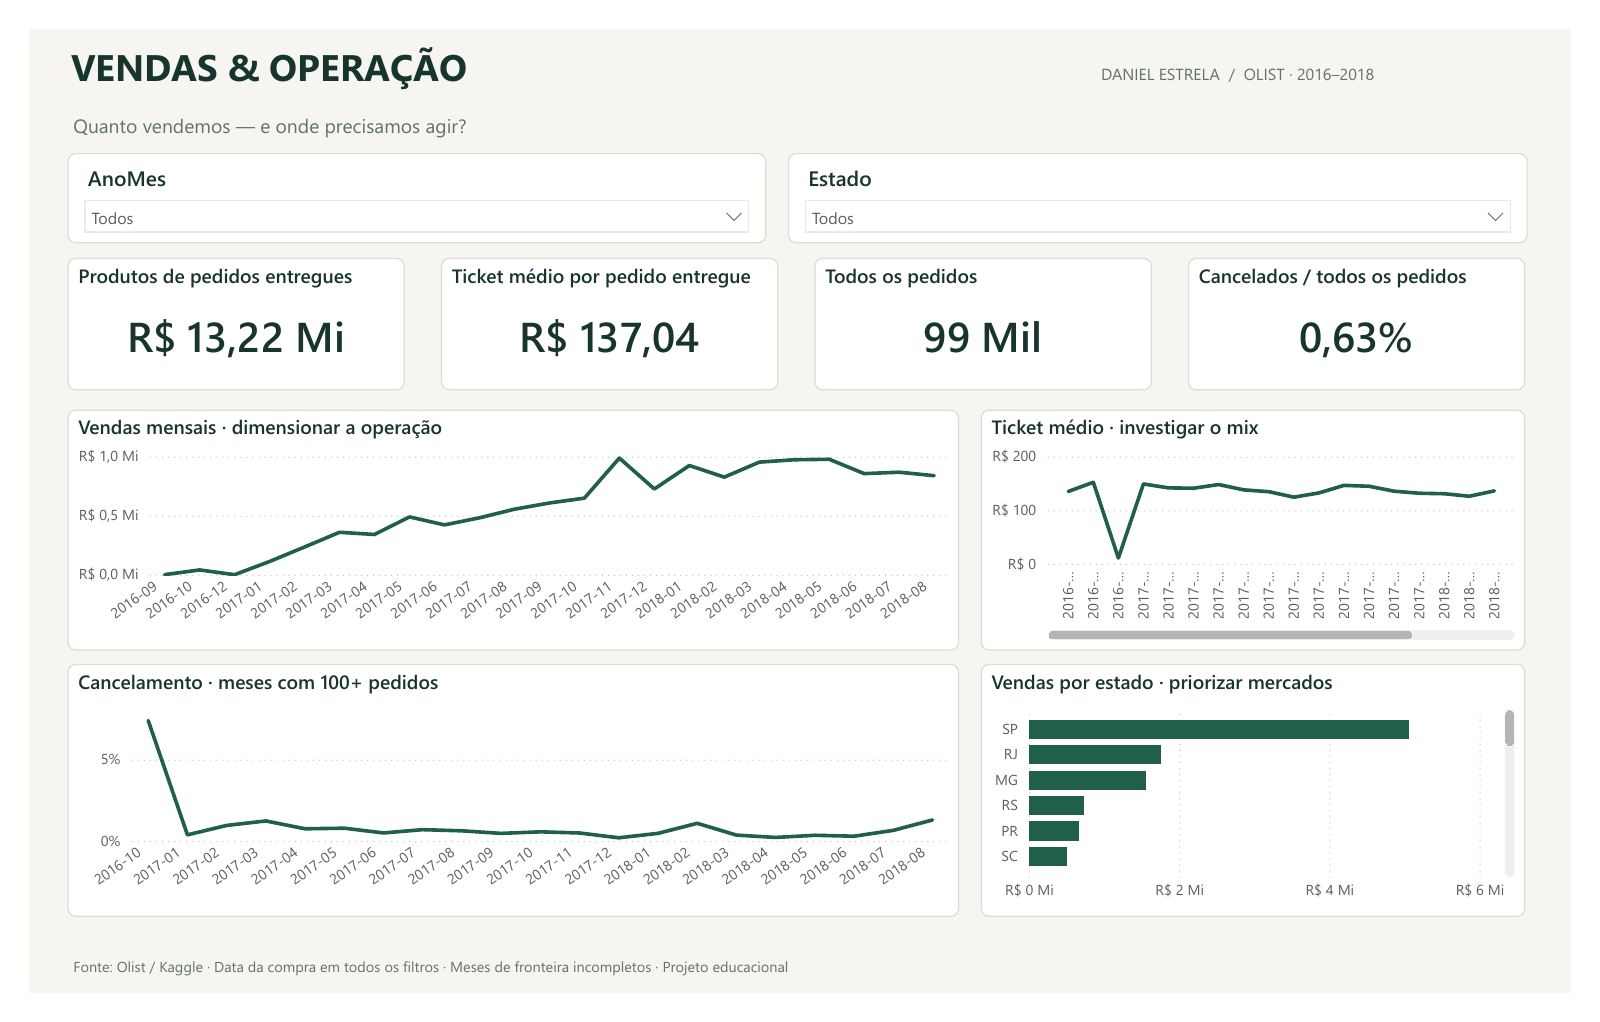

This screenshot's page, from the dashboard's own definition file:
{"tool":"powerbi","page":{"name":"01 · Comercial","canvas":[1280,800],"ordinal":0},"visuals":[{"type":"textbox","box":[30,6,850,64],"z":1},{"type":"textbox","box":[32,65,800,38],"z":2},{"type":"textbox","box":[885,24,360,35],"z":3},{"type":"slicer","fields":{"Values":["DimCalendario.AnoMes"]},"box":[32,103,580,75],"z":4},{"type":"slicer","fields":{"Values":["DimEstado.Estado"]},"box":[630,103,614,75],"z":5},{"type":"textbox","box":[32,764,1200,35],"z":6},{"type":"card","title":"Produtos de pedidos entregues","fields":{"Values":["FatoPedidos.Vendas (R$)"]},"box":[32,190,280,110],"z":13},{"type":"card","title":"Ticket médio por pedido entregue","fields":{"Values":["FatoPedidos.Ticket medio (R$)"]},"box":[342,190,280,110],"z":14},{"type":"card","title":"Todos os pedidos","fields":{"Values":["FatoPedidos.Pedidos"]},"box":[652,190,280,110],"z":15},{"type":"card","title":"Cancelados / todos os pedidos","fields":{"Values":["FatoPedidos.Taxa cancelamento"]},"box":[962,190,280,110],"z":16},{"type":"lineChart","title":"Vendas mensais · dimensionar a operação","fields":{"Category":["DimCalendario.AnoMes"],"Y":["FatoPedidos.Vendas (R$)"]},"box":[32,316,740,200],"z":17},{"type":"lineChart","title":"Ticket médio · investigar o mix","fields":{"Category":["DimCalendario.AnoMes"],"Y":["FatoPedidos.Ticket medio (R$)"]},"box":[790,316,452,200],"z":18},{"type":"lineChart","title":"Cancelamento · meses com 100+ pedidos","fields":{"Category":["DimCalendario.AnoMes"],"Y":["FatoPedidos.Taxa cancelamento elegivel"]},"box":[32,527,740,210],"z":19},{"type":"clusteredBarChart","title":"Vendas por estado · priorizar mercados","fields":{"Category":["DimEstado.Estado"],"Y":["FatoPedidos.Vendas (R$)"]},"box":[790,527,452,210],"z":20}]}

Visuals, with their boxes in screenshot pixels (x1, y1, x2, y2), scaled from the page's 1280x800 canvas onto the 1600x1022 screenshot:
textbox: crop(38, 8, 1100, 89)
textbox: crop(40, 83, 1040, 132)
textbox: crop(1106, 31, 1556, 75)
slicer - DimCalendario.AnoMes: crop(40, 132, 765, 227)
slicer - DimEstado.Estado: crop(788, 132, 1555, 227)
textbox: crop(40, 976, 1540, 1021)
"Produtos de pedidos entregues" card: crop(40, 243, 390, 383)
"Ticket médio por pedido entregue" card: crop(428, 243, 778, 383)
"Todos os pedidos" card: crop(815, 243, 1165, 383)
"Cancelados / todos os pedidos" card: crop(1202, 243, 1552, 383)
"Vendas mensais · dimensionar a operação" lineChart: crop(40, 404, 965, 659)
"Ticket médio · investigar o mix" lineChart: crop(988, 404, 1552, 659)
"Cancelamento · meses com 100+ pedidos" lineChart: crop(40, 673, 965, 942)
"Vendas por estado · priorizar mercados" clusteredBarChart: crop(988, 673, 1552, 942)
